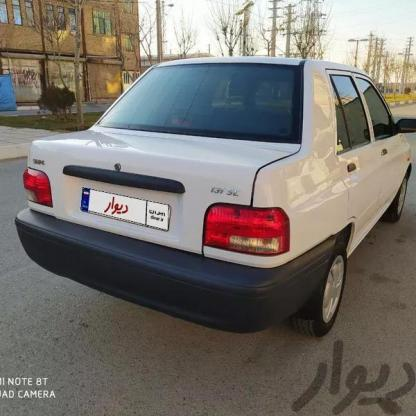Car: (1, 67, 416, 327)
